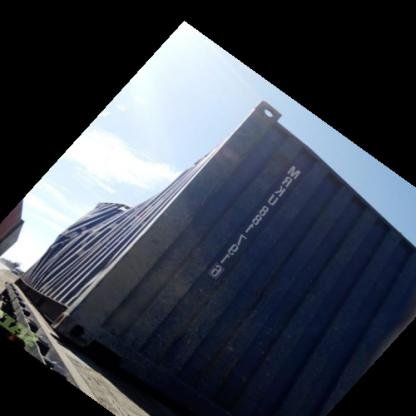Damage: (36, 198, 108, 279)
